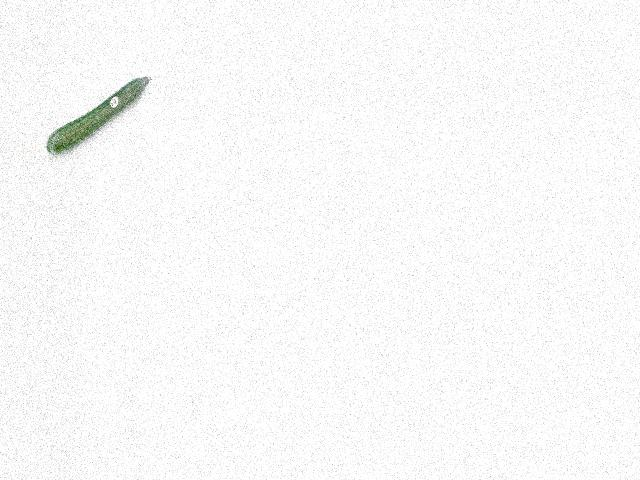cucumber: (47, 76, 151, 153)
